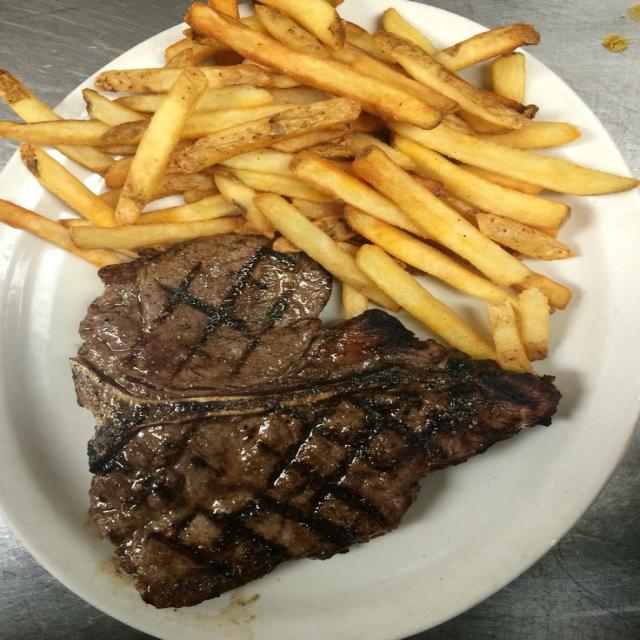beef steak: (71, 234, 559, 607)
potato fries: (0, 0, 639, 370), (187, 4, 441, 127), (354, 147, 529, 286), (390, 123, 639, 195), (254, 194, 399, 310), (347, 207, 515, 304), (357, 245, 495, 359), (115, 68, 207, 224), (177, 98, 360, 171), (0, 200, 123, 267), (20, 145, 115, 226), (70, 217, 244, 249), (477, 213, 574, 260), (264, 0, 346, 48), (487, 304, 533, 372), (516, 289, 549, 360)
